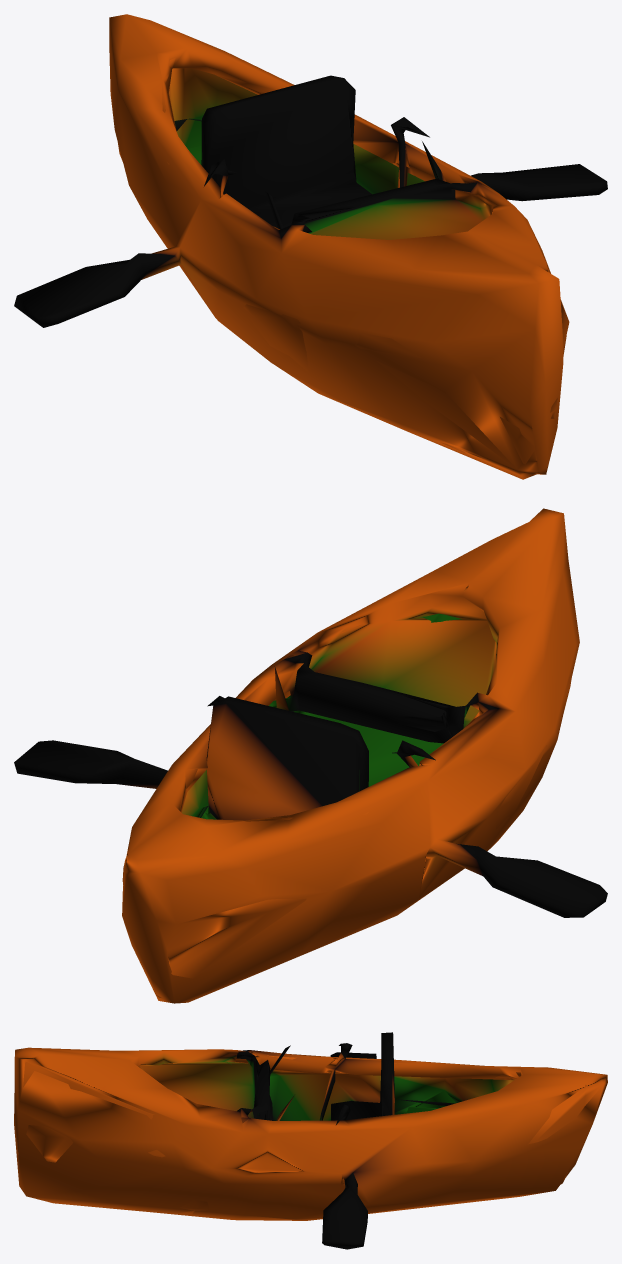
File: gen3d-kayak-lod1.glb
3 views of the same model, one above another, from view 1: azimuth 30°, elevation 25°; view 2: azimuth 150°, elevation 25°; view 3: azimuth 270°, elevation 25° (orthographic). The views are drawn at different scales.
Visible parts, largest first — view 1: part_0; view 2: part_0; view 3: part_0.
Part boxes in pixels (box(x1,y1,x2,y2)): part_0: box(14, 14, 607, 479); part_0: box(14, 508, 607, 1003); part_0: box(14, 1032, 607, 1249).
Size of the model in its own units: 2.67 by 0.9878 by 3.47.
